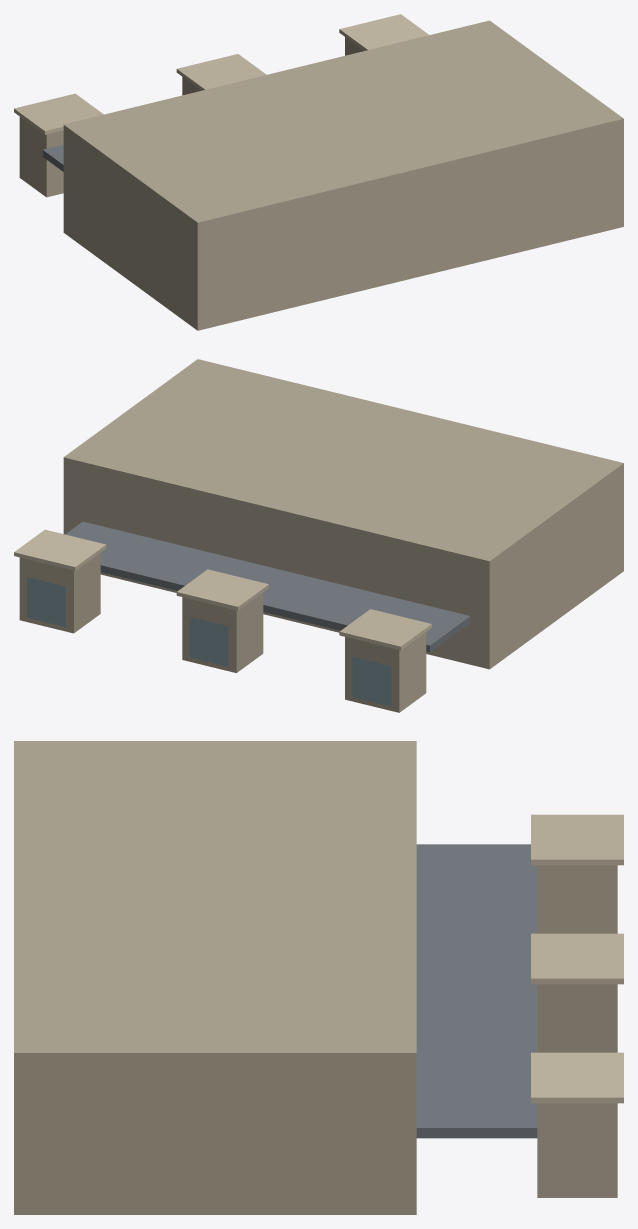
The picture shows the model from 3 angles, top to bottom: view 1: azimuth 30°, elevation 25°; view 2: azimuth 150°, elevation 25°; view 3: azimuth 270°, elevation 25°; orthographic projection. The views are drawn at different scales.
Visible parts, largest first — view 1: staten-island-ferry-lod3; view 2: staten-island-ferry-lod3; view 3: staten-island-ferry-lod3.
Boxes of the visible parts, x1,y1,x2,y2 form: staten-island-ferry-lod3: [14, 14, 623, 330]; staten-island-ferry-lod3: [14, 359, 623, 712]; staten-island-ferry-lod3: [14, 741, 623, 1214].
Size of the model in its own units: 116 by 28 by 95.48.
